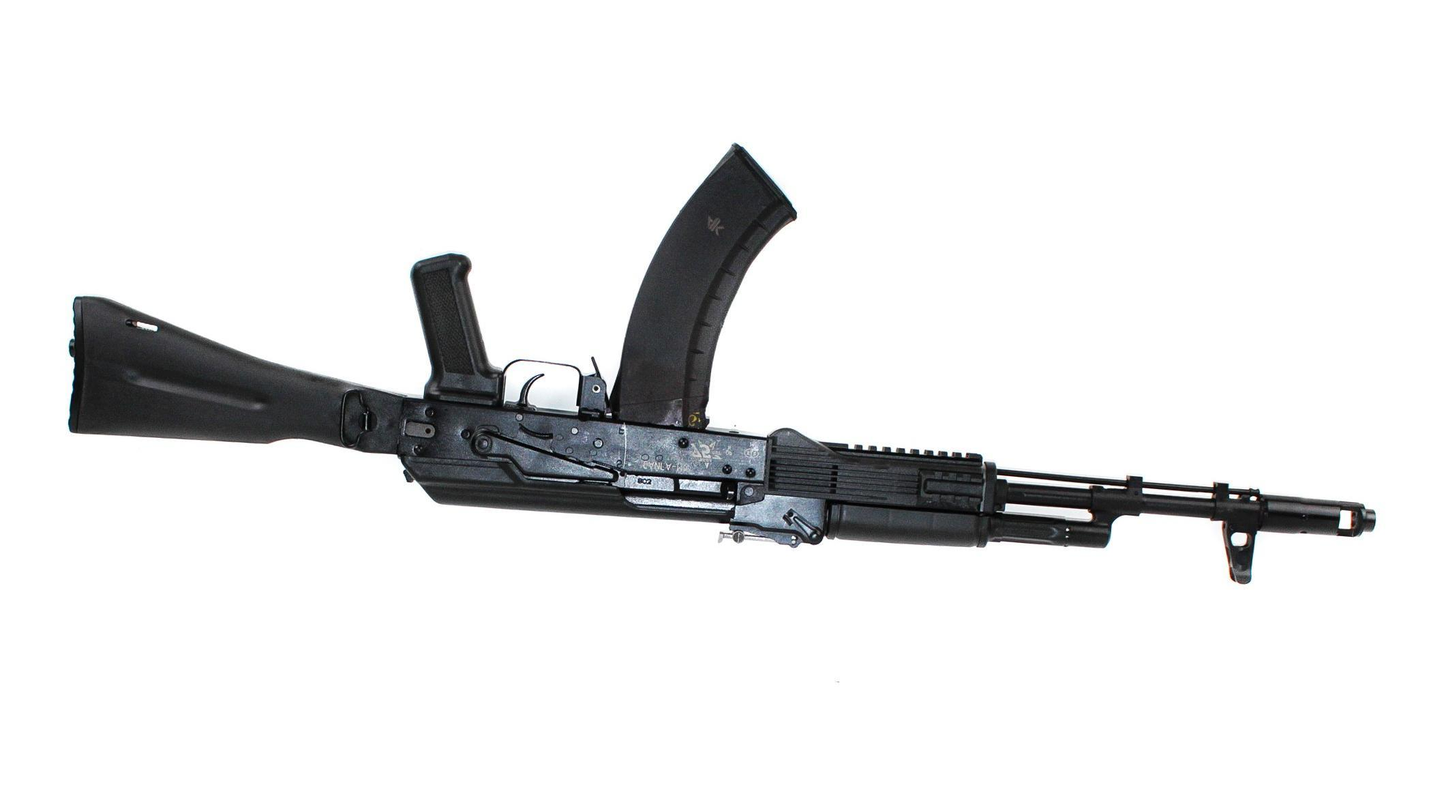larga: (66, 143, 1378, 588)
